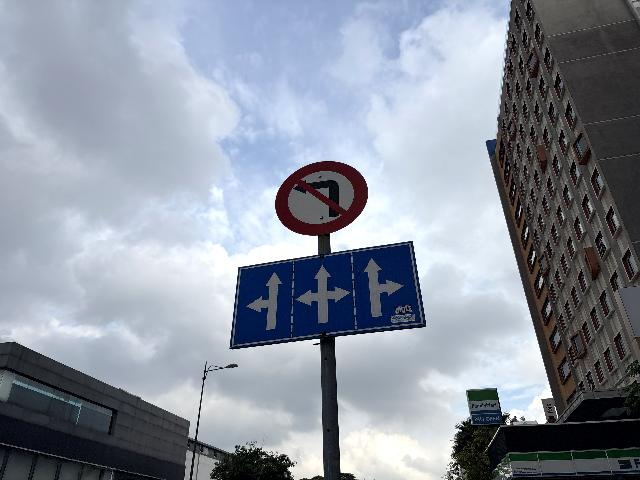cam-re-trai: (275, 160, 370, 236)
